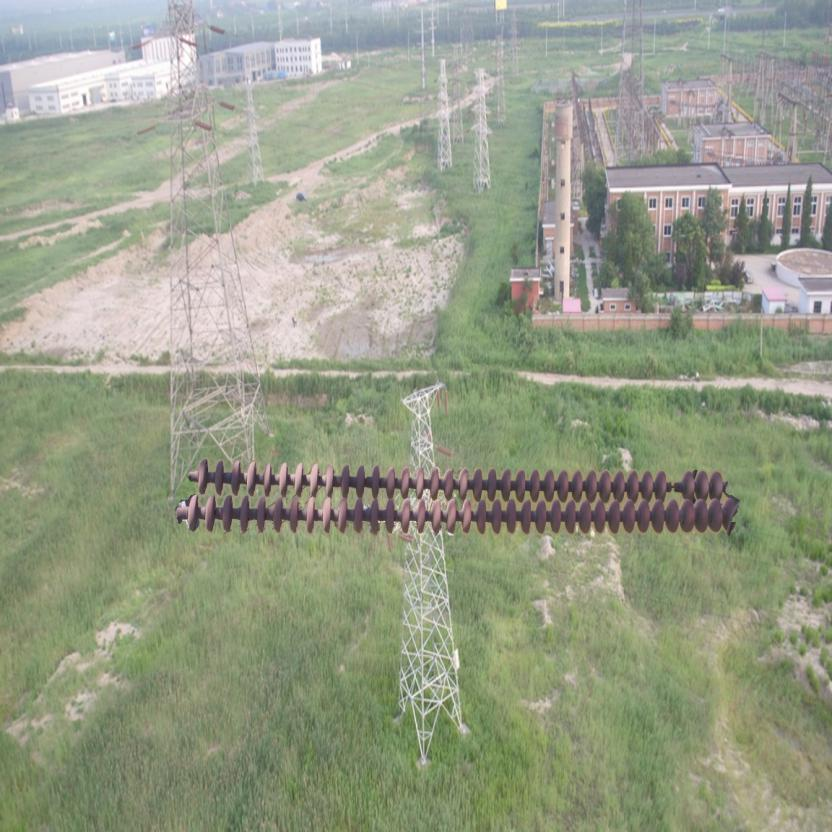defect: (652, 467, 698, 503)
